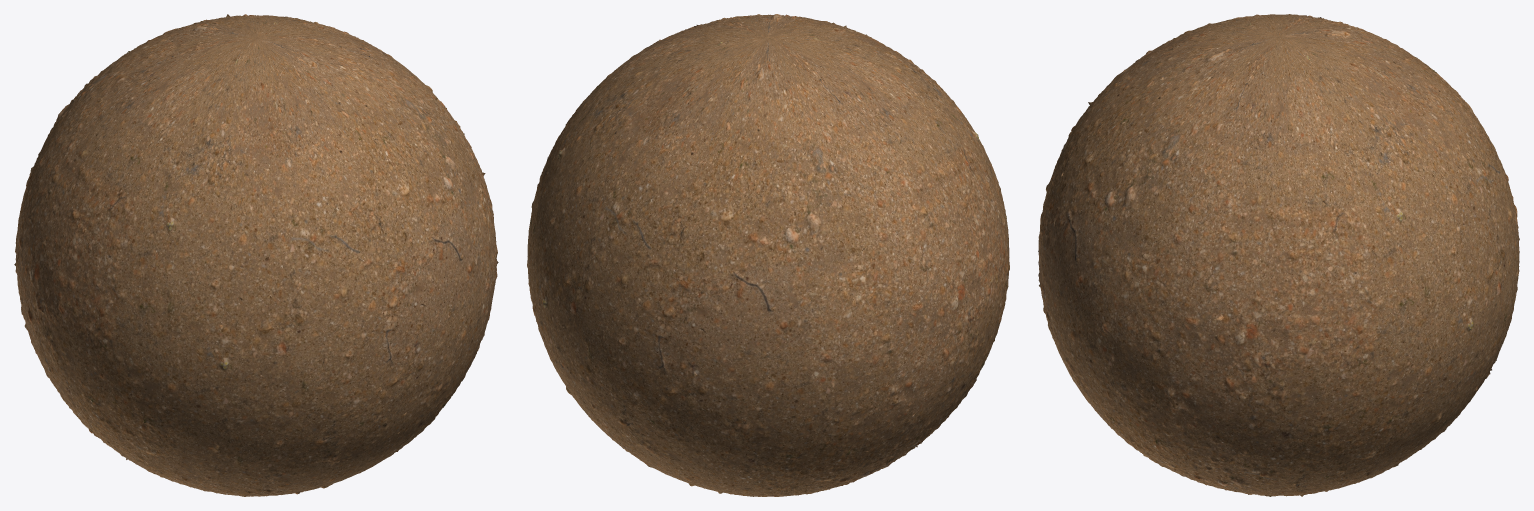
Rendered from gravelly_sand_1k.gltf.
The picture shows the model from 3 angles, left to right: view 1: azimuth 30°, elevation 25°; view 2: azimuth 150°, elevation 25°; view 3: azimuth 270°, elevation 25°; orthographic projection.
Parts seen in each view (by area): view 1: sphere_gltf; view 2: sphere_gltf; view 3: sphere_gltf.
Part boxes in pixels (left/top/right/bottom): sphere_gltf: left=14, top=14, right=498, bottom=496; sphere_gltf: left=527, top=14, right=1009, bottom=496; sphere_gltf: left=1038, top=14, right=1519, bottom=496.
Bounding box in the file's own units: 2.46 × 2.45 × 2.44.
Materials: 1 (1 with a texture image).
